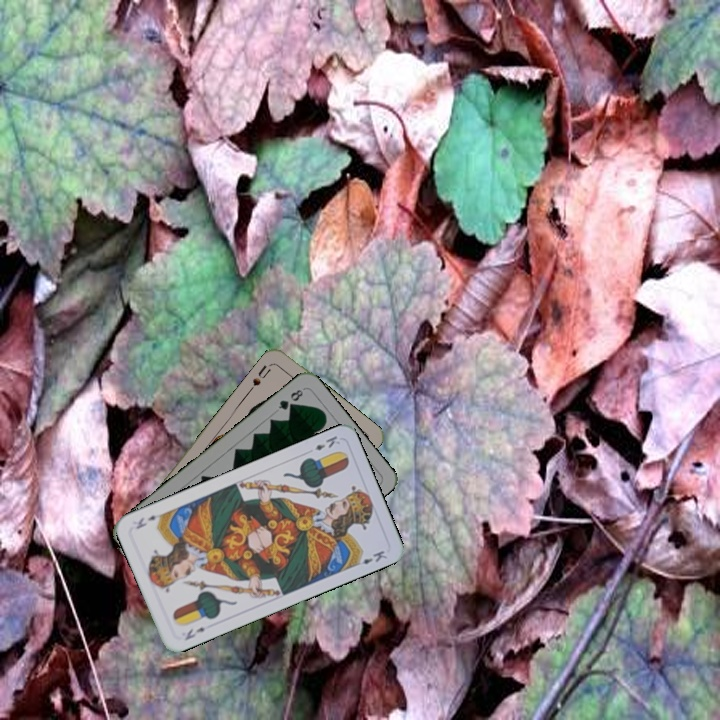EK: (311, 431, 343, 453), (181, 623, 208, 643)
G8: (274, 385, 307, 413)
SU: (245, 360, 275, 394)
